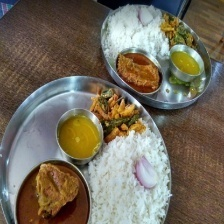dal: (168, 49, 203, 75)
